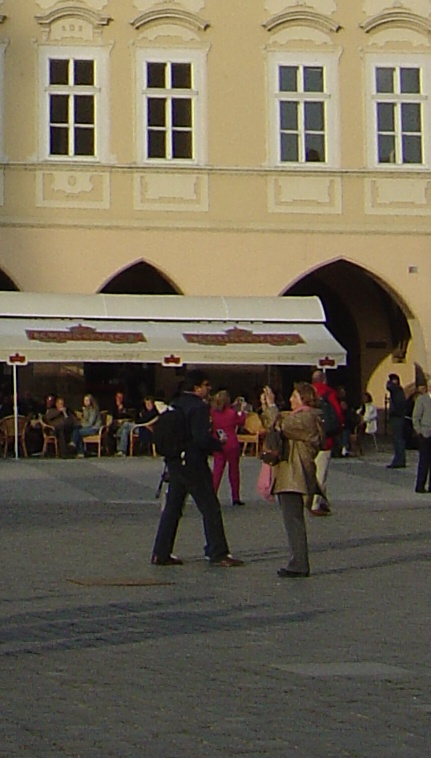person: (254, 378, 328, 577), (164, 367, 229, 569), (204, 388, 247, 505)
